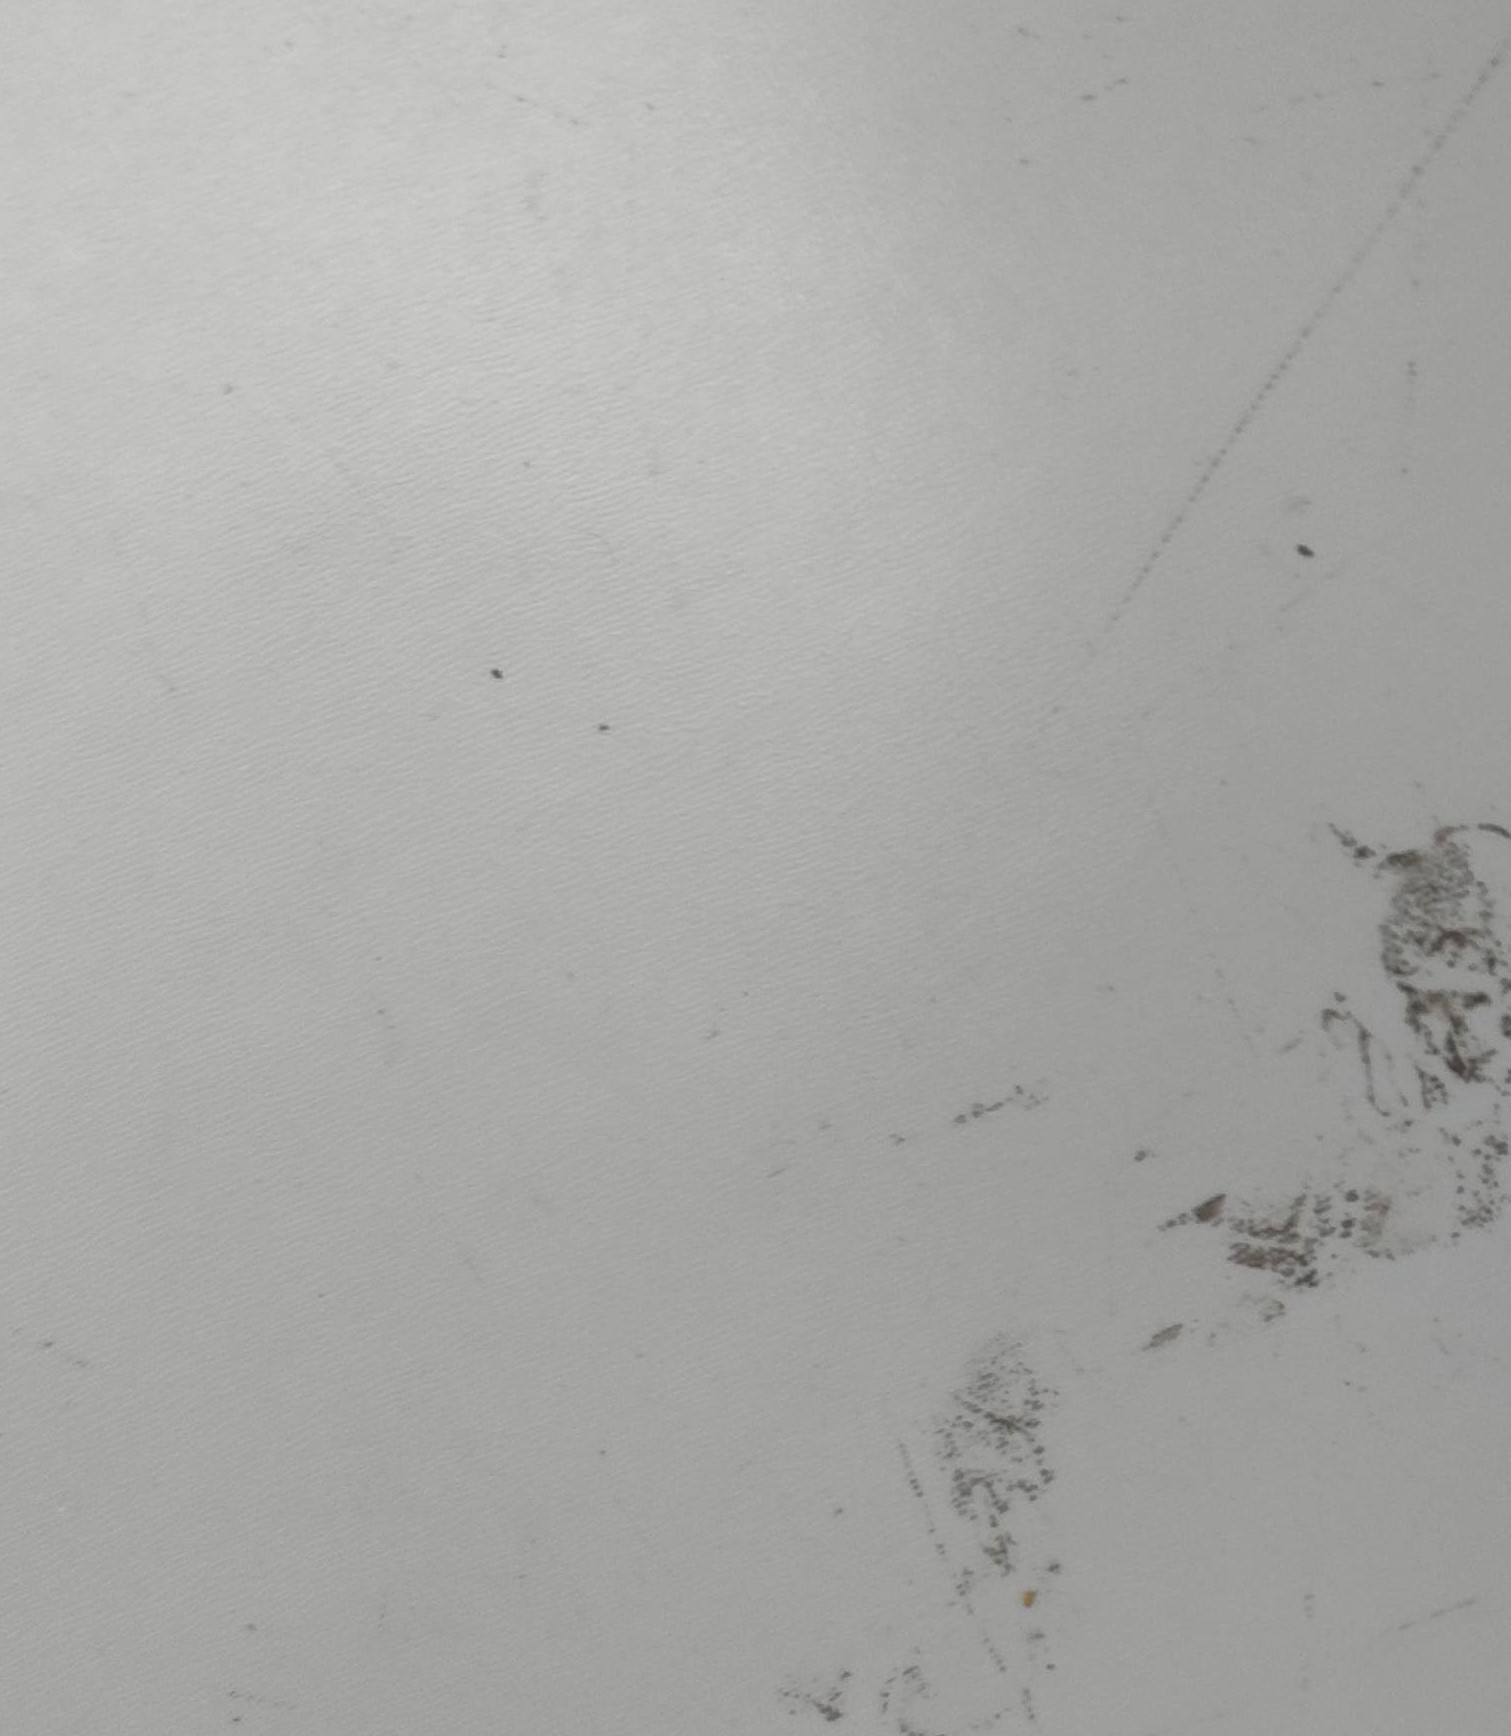grey spot: (1144, 825, 1511, 1351), (937, 1332, 1059, 1574)
